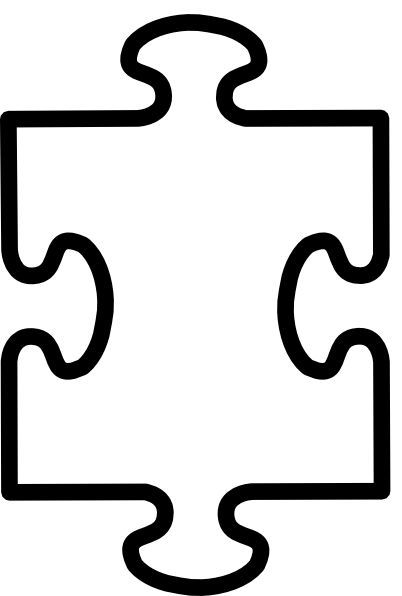puzzle piece: (1, 15, 396, 596)
